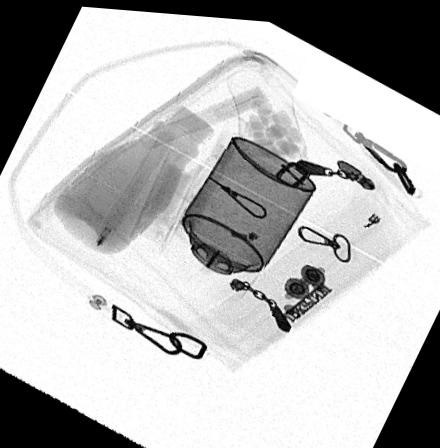Sprayer: (158, 133, 317, 296)
